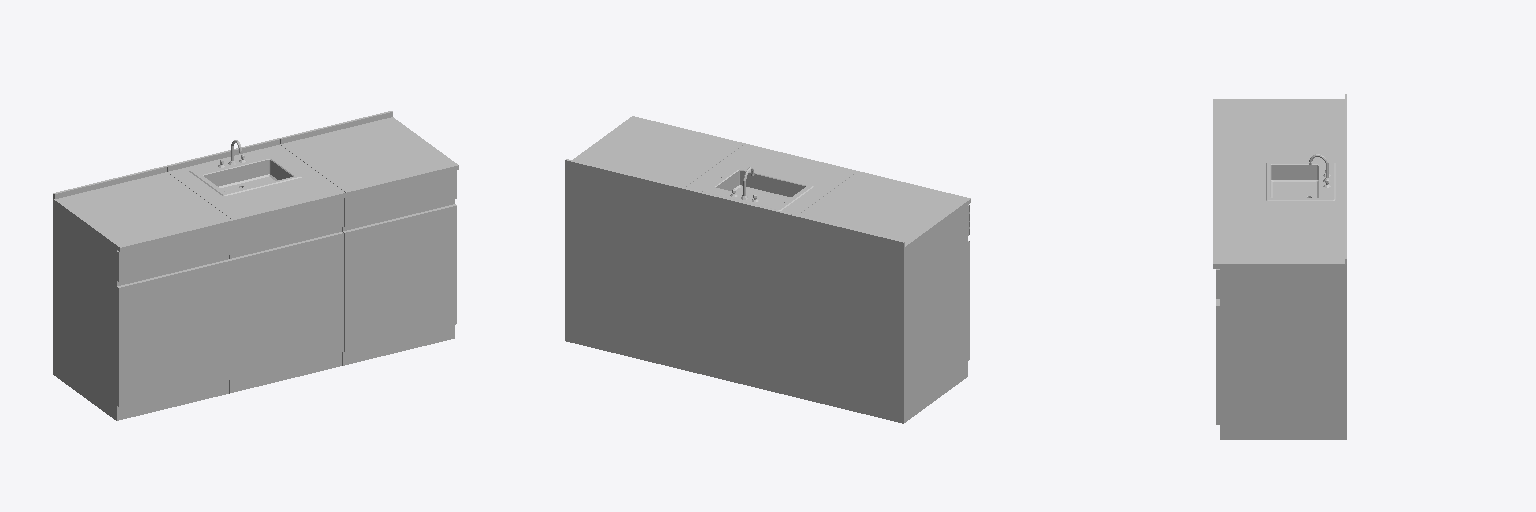
Rendered from Sideboard.obj.
3 views of the same model, side by side, from view 1: azimuth 30°, elevation 25°; view 2: azimuth 150°, elevation 25°; view 3: azimuth 270°, elevation 25° (orthographic).
Bounding box in the file's own units: 90.5 × 51.93 × 31.19.